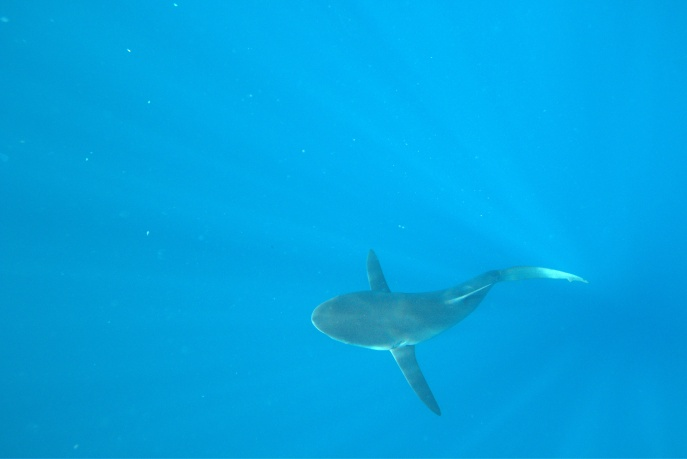Sedoso: (280, 235, 603, 422)
